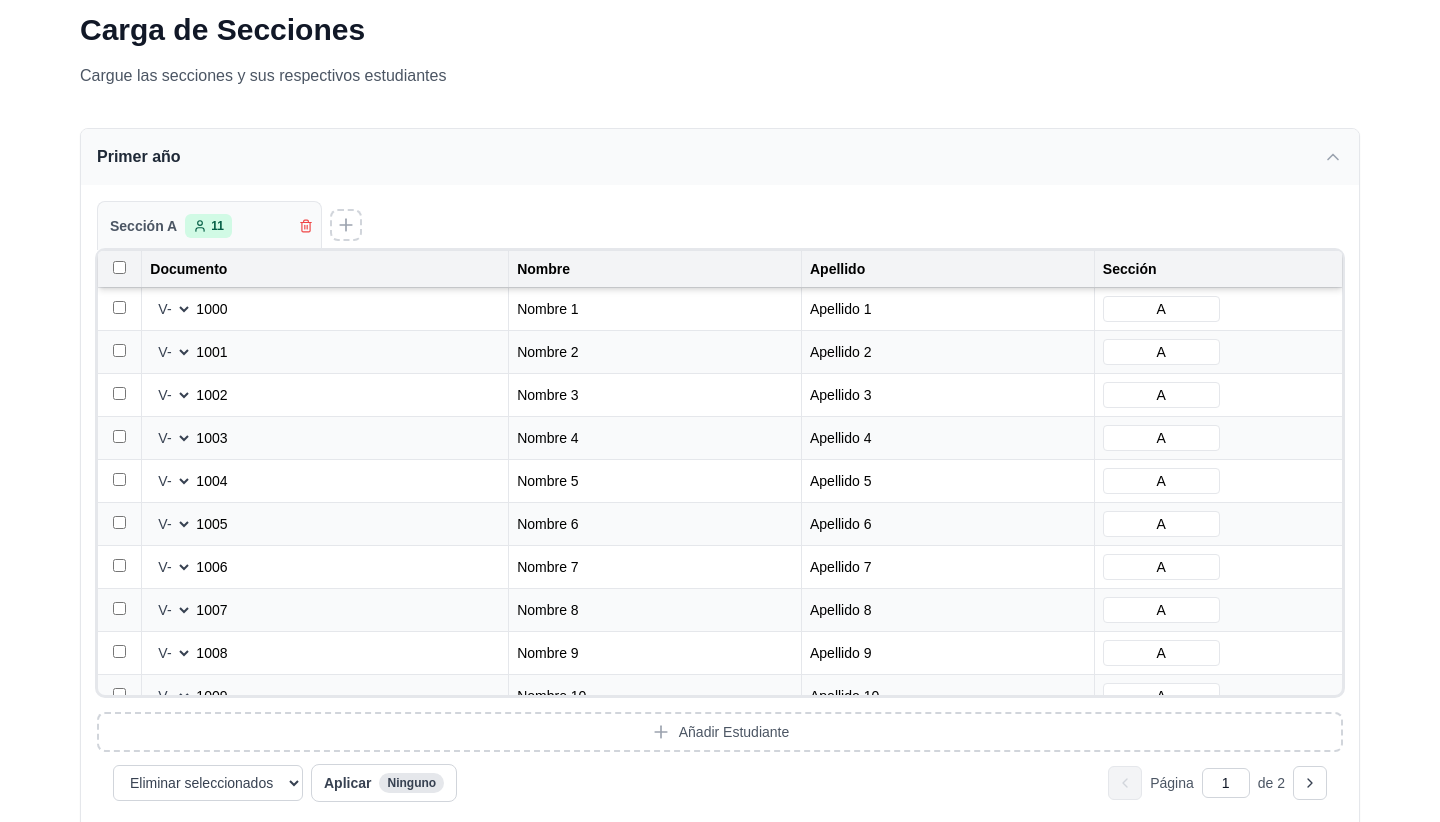
Test: Data loading pages › paginates locally and bulk deletes selected students
Expected: the field labelled "Página" holds "1", 1202,768 -> 1250,798
Expected: the field showing "Nombre 11" is not shown
Click the button named "Siguiente": x=1310, y=782 1293,766 -> 1327,800
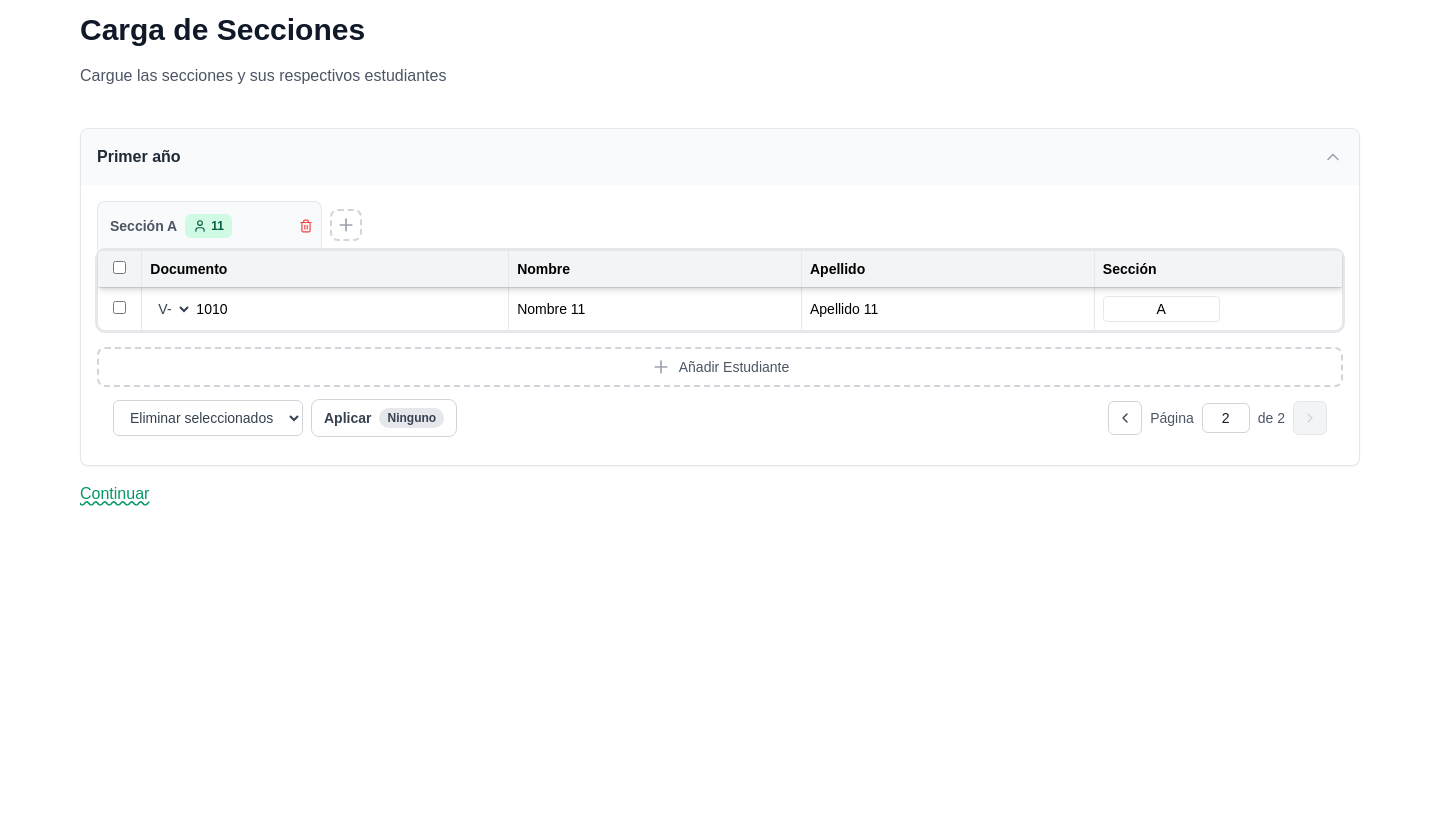
Expected: the field labelled "Página" holds "2", 1202,403 -> 1250,433
Expected: the field showing "Nombre 11" is shown, 517,299 -> 793,319
Click the checkbox named "Seleccionar Nombre 11 Apellido 11": x=120, y=308 113,301 -> 126,314
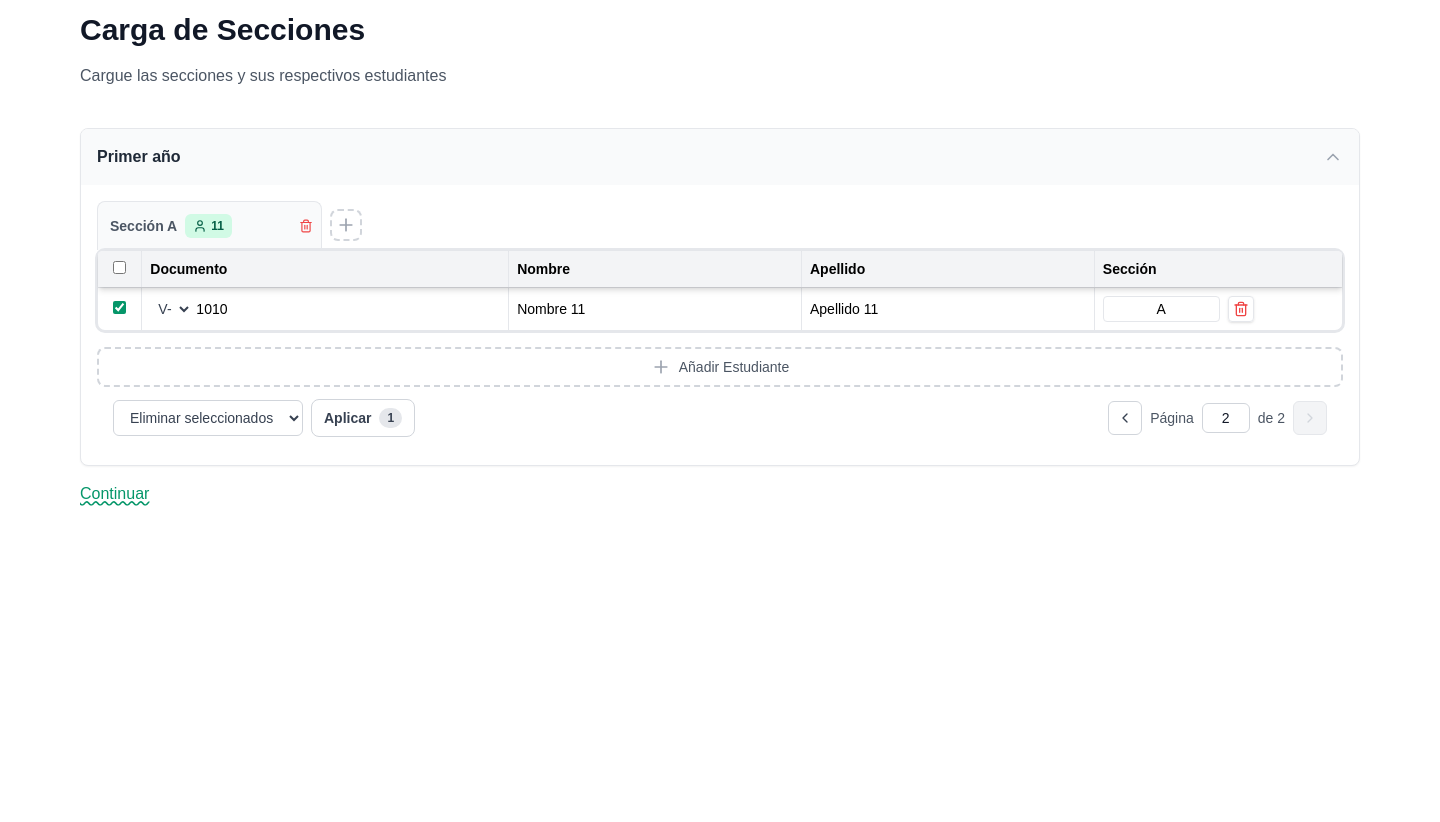
Select "Eliminar seleccionados" in the dropdown named "Acciones de estudiantes": x=208, y=418 113,400 -> 303,436
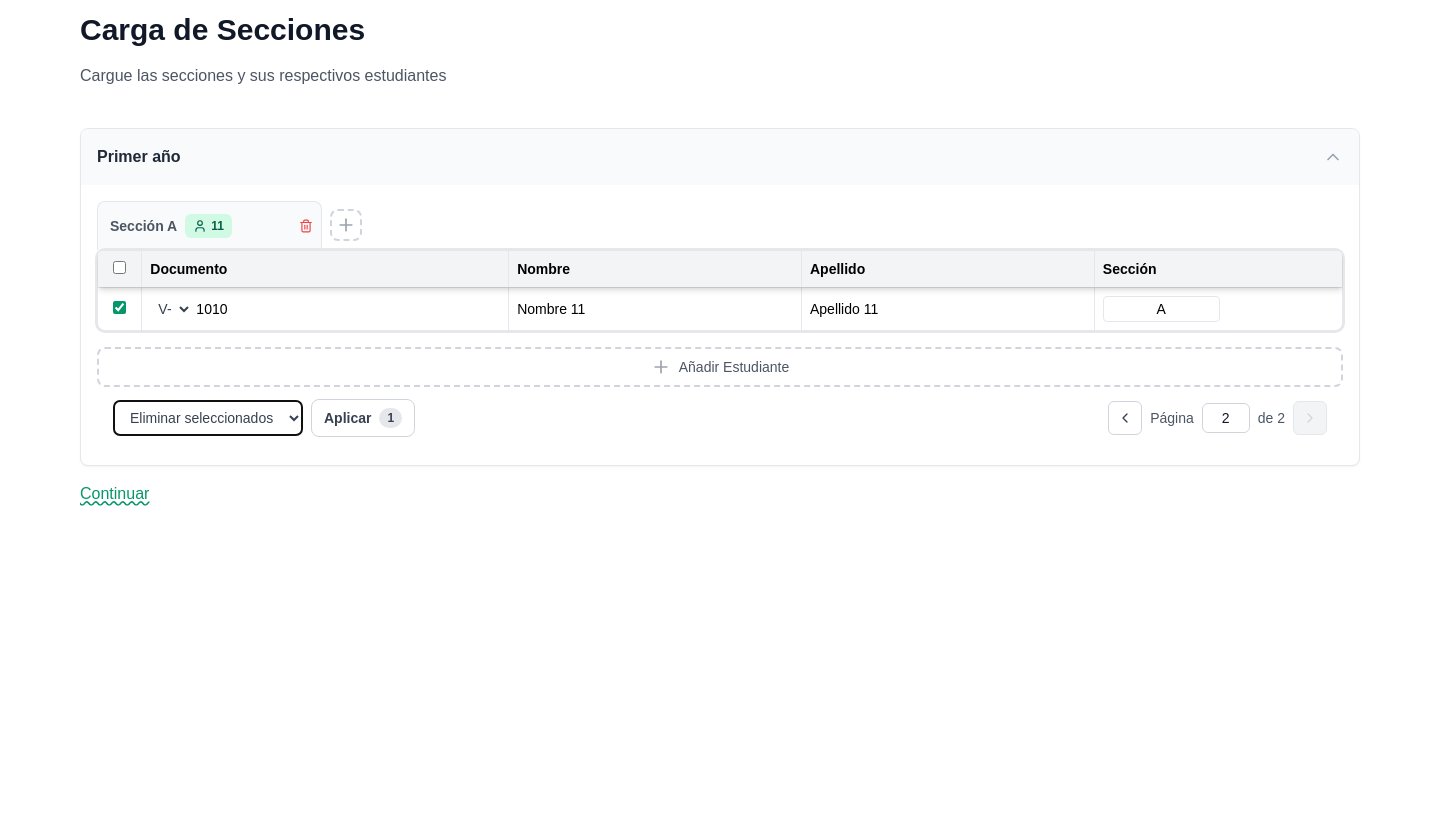
Click the button "Aplicar 1": x=363, y=418 311,399 -> 415,437
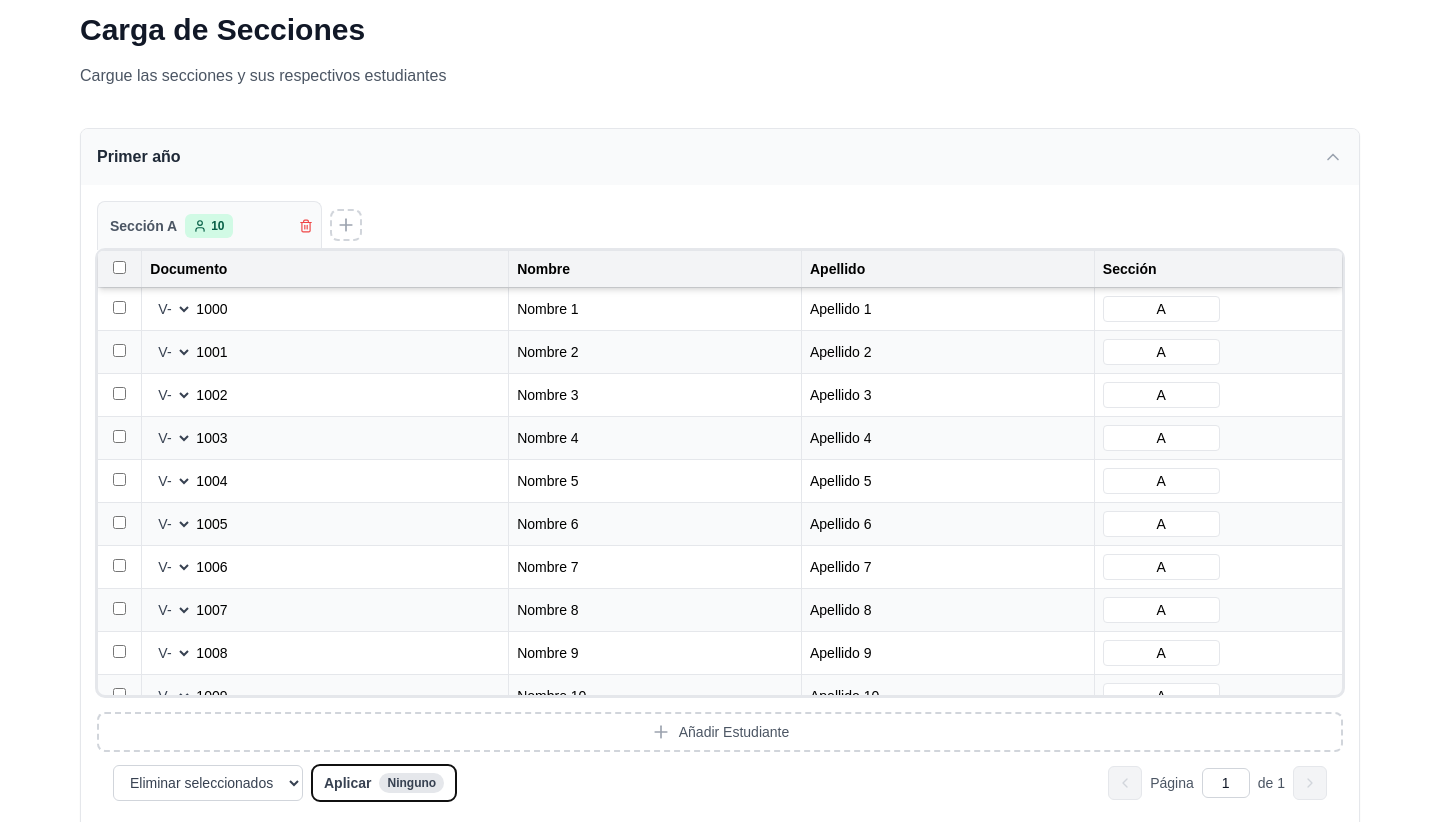
Expected: the field showing "Nombre 11" is not shown
Expected: the field labelled "Página" holds "1", 1202,768 -> 1250,798
